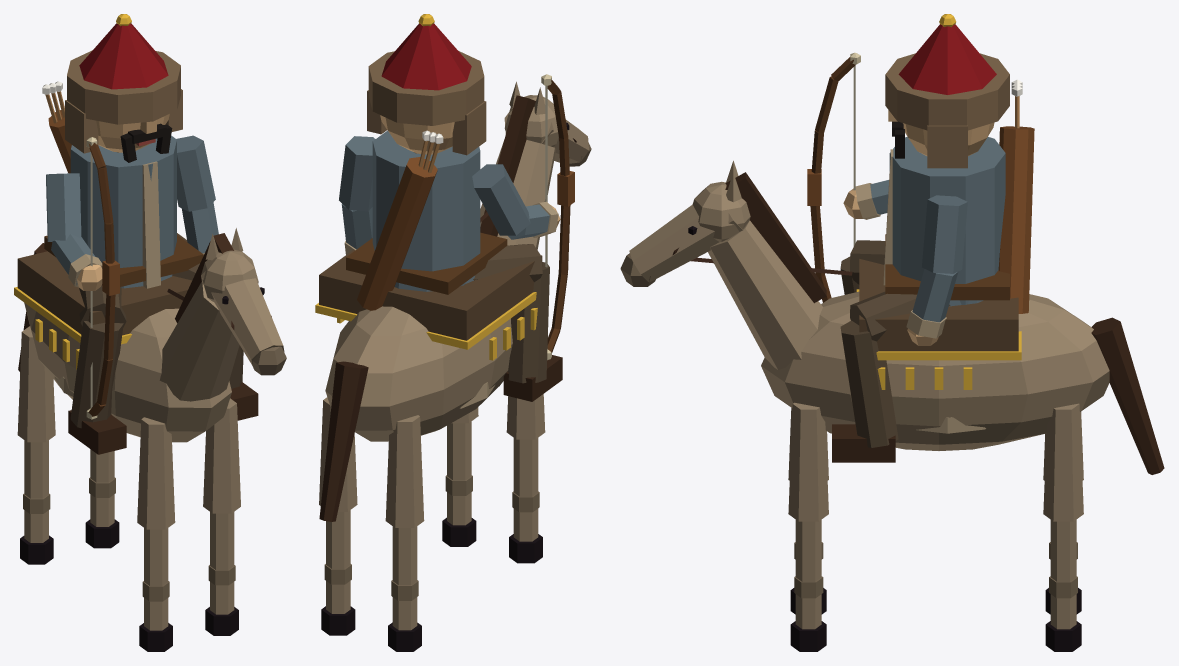
Rendered from hun.glb.
The picture shows the model from 3 angles, left to right: view 1: azimuth 30°, elevation 25°; view 2: azimuth 150°, elevation 25°; view 3: azimuth 270°, elevation 25°; orthographic projection. The views are drawn at different scales.
Visible parts, largest first — view 1: jezdziec, hun, kon_glowa, kon_noga_lp, kon_noga_pp, kon_noga_lt, kon_noga_pt; view 2: jezdziec, hun, kon_noga_lt, kon_glowa, kon_noga_lp, kon_noga_pt, kon_ogon, kon_noga_pp; view 3: jezdziec, hun, kon_glowa, kon_noga_pp, kon_noga_pt, kon_ogon.
Boxes of the visible parts, box(x1,y1,x2,y2) form: jezdziec: box(42, 14, 258, 454); hun: box(14, 233, 231, 442); kon_glowa: box(159, 228, 286, 401); kon_noga_lp: box(137, 417, 175, 651); kon_noga_pp: box(203, 398, 240, 635); kon_noga_lt: box(17, 326, 55, 564); kon_noga_pt: box(85, 449, 119, 548); jezdziec: box(339, 14, 574, 408); hun: box(315, 249, 542, 441); kon_noga_lt: box(385, 415, 424, 651); kon_glowa: box(480, 81, 591, 249); kon_noga_lp: box(506, 394, 545, 563); kon_noga_pt: box(319, 397, 357, 635); kon_ogon: box(319, 361, 368, 521); kon_noga_pp: box(442, 407, 478, 546); jezdziec: box(807, 14, 1034, 462); hun: box(761, 259, 1109, 450); kon_glowa: box(620, 160, 852, 369); kon_noga_pp: box(788, 402, 828, 651); kon_noga_pt: box(1043, 403, 1083, 651); kon_ogon: box(1091, 317, 1164, 474).
Bounding box in the file's own units: 0.7498 × 2.34 × 1.88.
